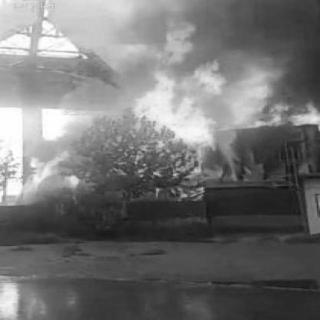Fire: (34, 14, 304, 214)
